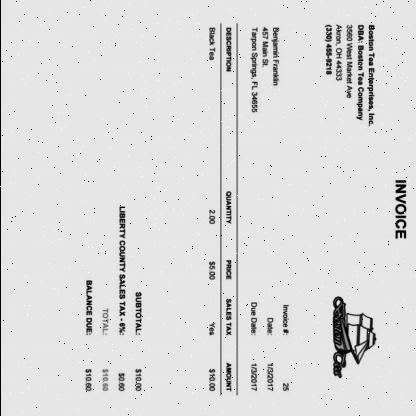Paragraph: (78, 201, 148, 395), (319, 20, 379, 130), (244, 297, 294, 396), (246, 24, 282, 114), (391, 177, 409, 242)
Table: (194, 23, 236, 397)
